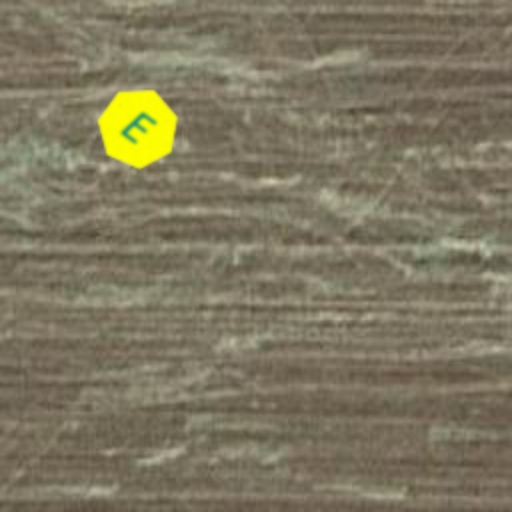heptagon: (80, 70, 196, 186)
